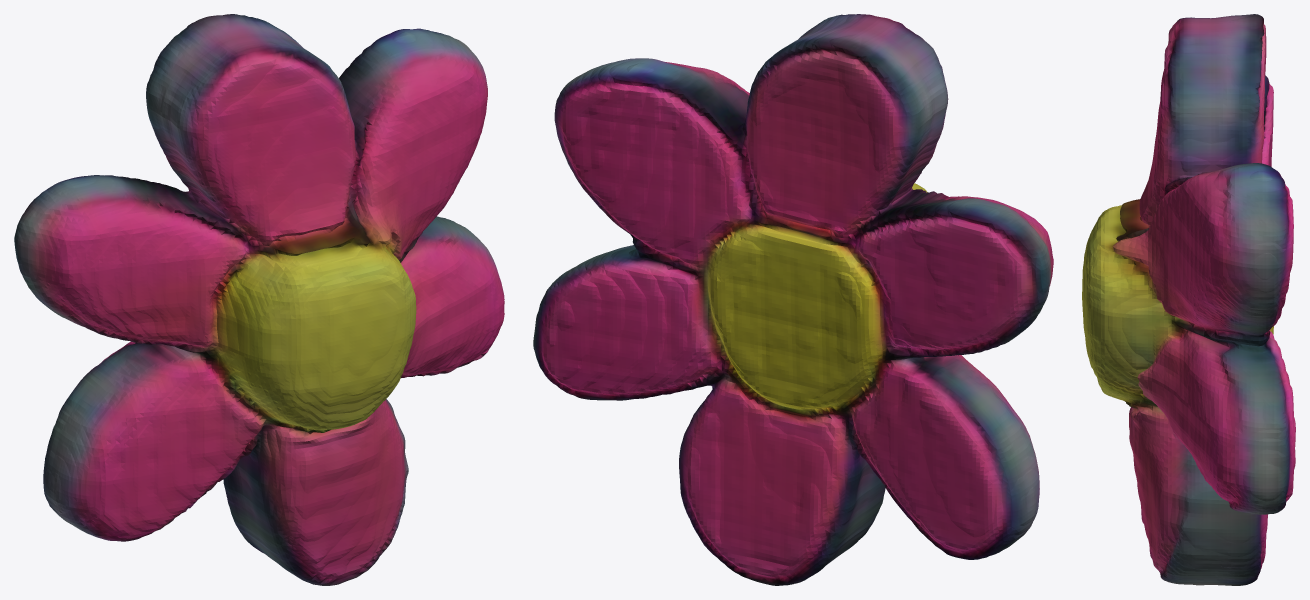
3 renders of one model, left to right at view 1: azimuth 30°, elevation 25°; view 2: azimuth 150°, elevation 25°; view 3: azimuth 270°, elevation 25°, orthographic. The views are drawn at different scales.
Parts seen in each view (by area): view 1: world; view 2: world; view 3: world.
Boxes of the visible parts, <box> form: world: <box>14,14,504,585</box>; world: <box>533,14,1053,585</box>; world: <box>1082,14,1295,585</box>.
Size of the model in its own units: 0.9188 by 0.9942 by 0.3699.
